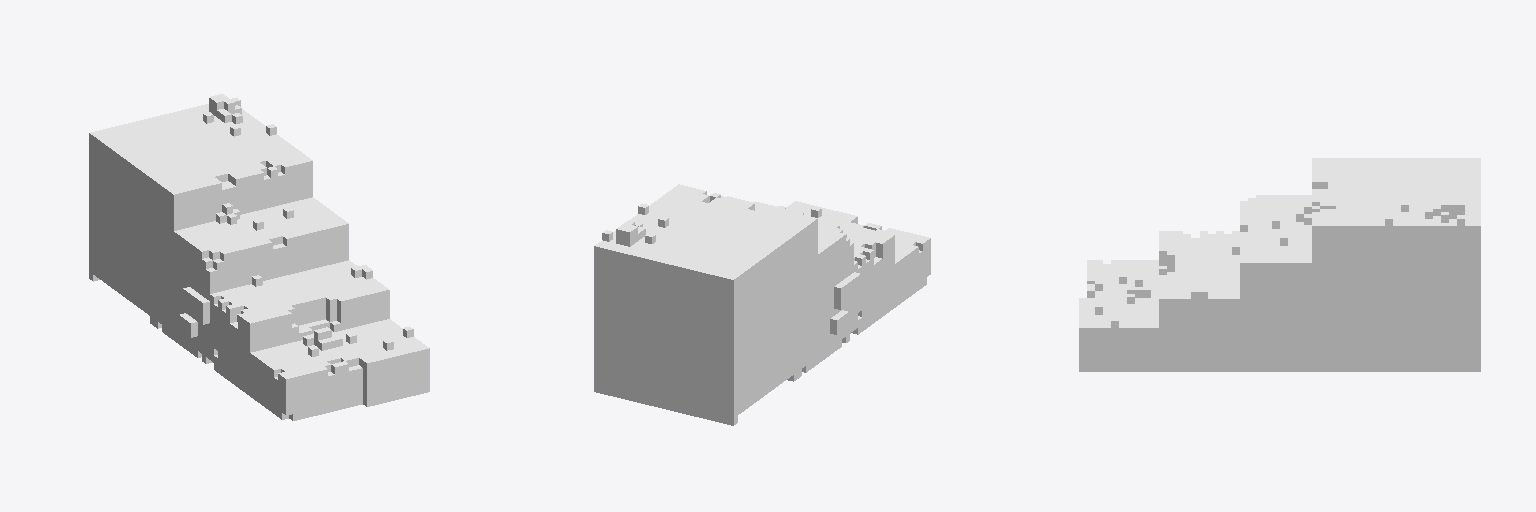
File: Desert-36-Stairs_Low.obj
3 views of the same model, side by side, from view 1: azimuth 30°, elevation 25°; view 2: azimuth 150°, elevation 25°; view 3: azimuth 270°, elevation 25° (orthographic).
Parts seen in each view (by area): view 1: Stairs_Low; view 2: Stairs_Low; view 3: Stairs_Low.
Part boxes in pixels (left/top/right/bottom): Stairs_Low: left=89, top=94, right=429, bottom=420; Stairs_Low: left=594, top=184, right=930, bottom=425; Stairs_Low: left=1079, top=158, right=1480, bottom=371.
Size of the model in its own units: 2.1 by 2.2 by 5.